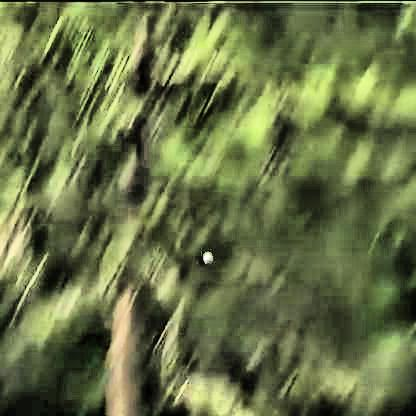golfball: (200, 248, 213, 261)
